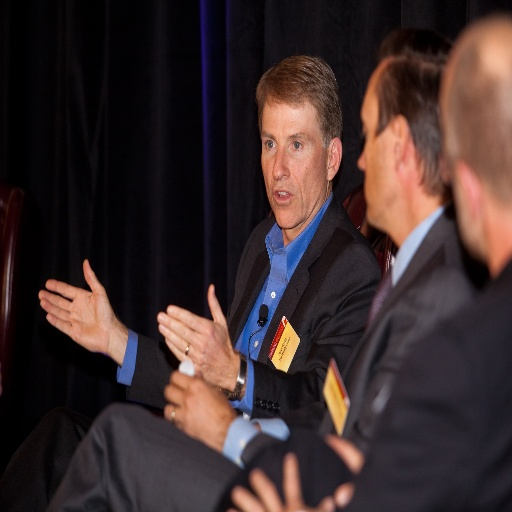hand: (154, 282, 234, 387), (36, 257, 116, 354), (227, 450, 334, 511), (163, 368, 230, 444), (323, 432, 364, 506)
